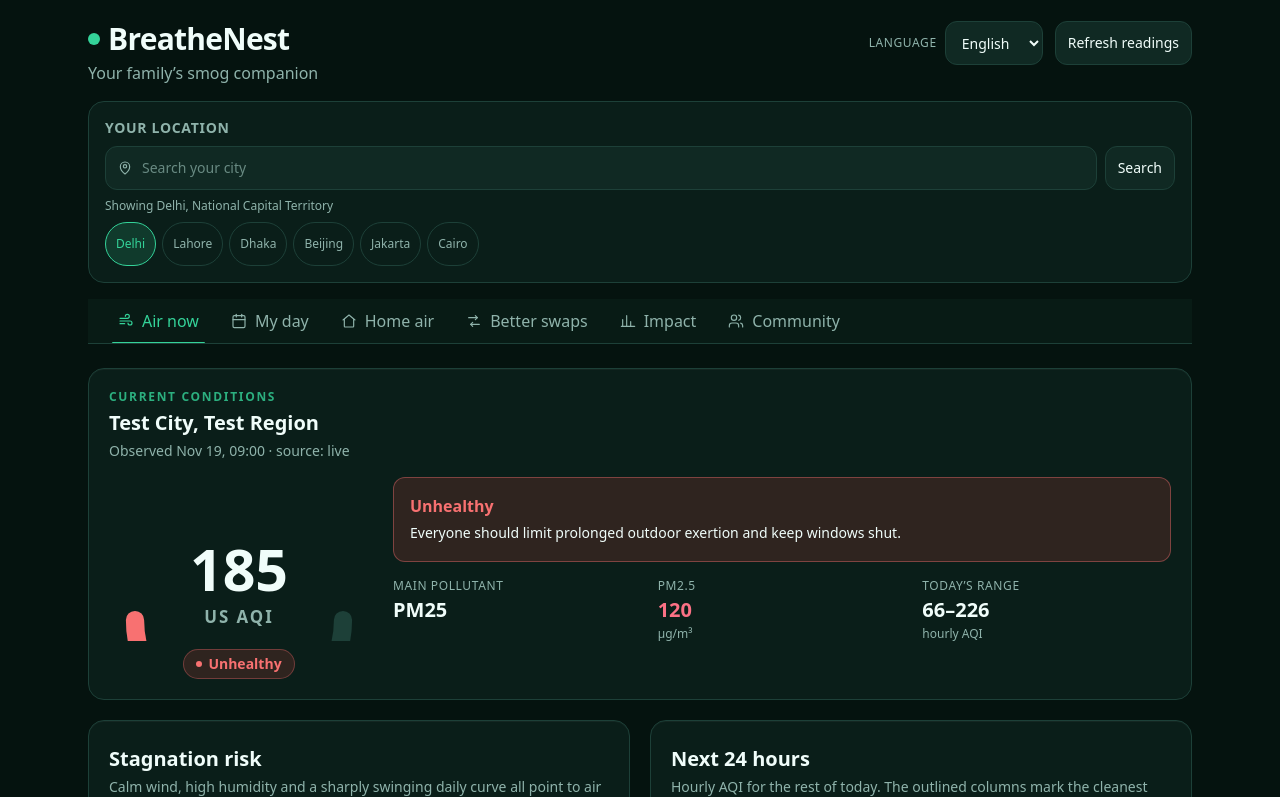
Scenario: routine tab — deterministic fallback › shows how the two generators differ
Click the tab "My day" at (270, 321), box [217, 299, 323, 343]
(page scrolled)
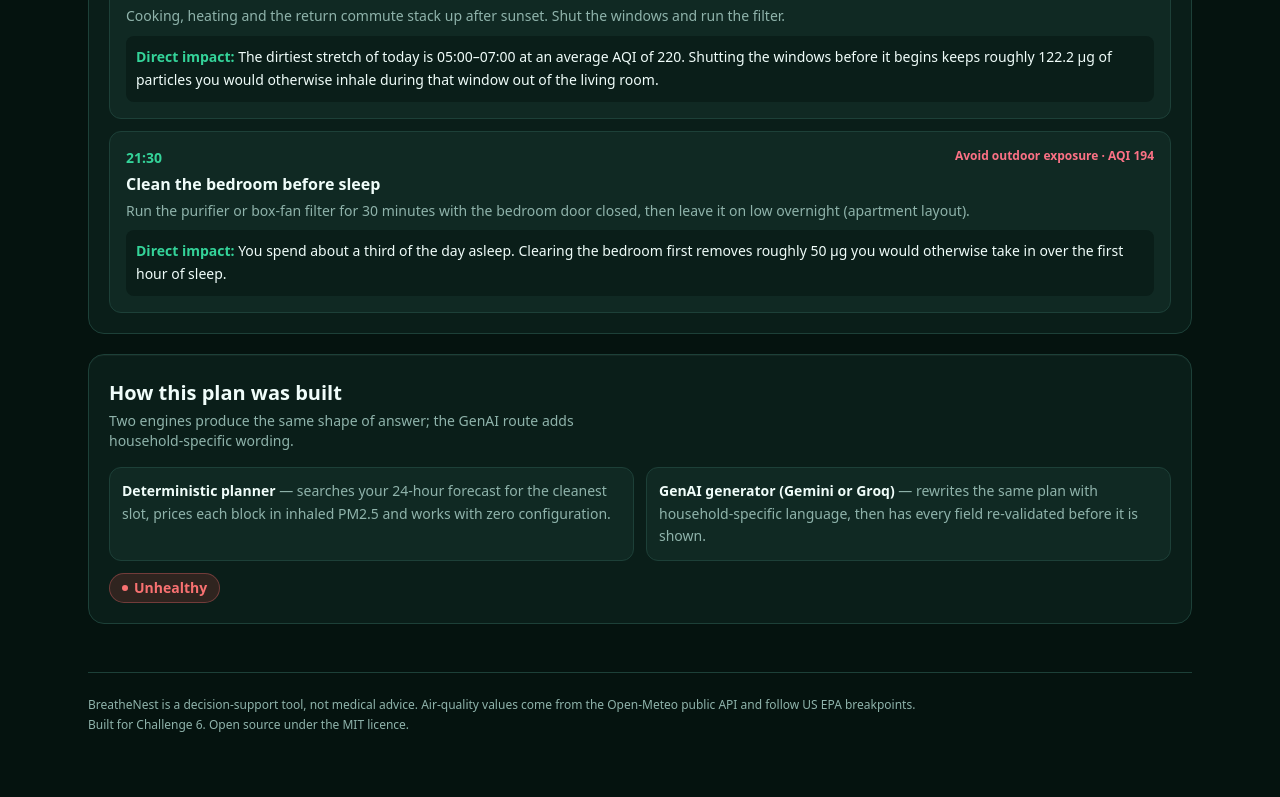
Expected: the heading "How this plan was built" is shown, [109, 379, 342, 406]
Expected: the text "Deterministic planner" is shown, [122, 481, 276, 500]
Expected: the text "GenAI generator (Gemini or Groq)" is shown, [659, 481, 895, 500]
